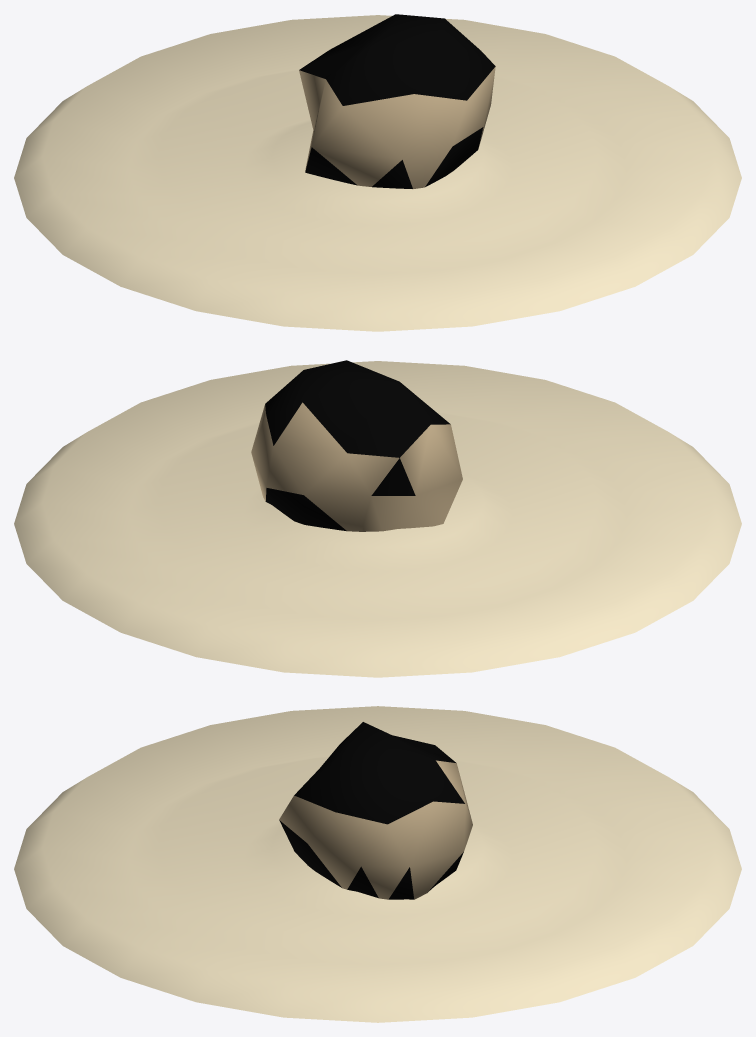
File: ZenStones.fbx
3 views of the same model, one above another, from view 1: azimuth 30°, elevation 25°; view 2: azimuth 150°, elevation 25°; view 3: azimuth 270°, elevation 25° (orthographic).
Visible parts, largest first — view 1: ZenStones; view 2: ZenStones; view 3: ZenStones.
Part boxes in pixels (x1=…): ZenStones: x1=14, y1=14, x2=741, y2=331; ZenStones: x1=14, y1=360, x2=741, y2=677; ZenStones: x1=14, y1=706, x2=741, y2=1022.
Size of the model in its own units: 1.4 by 0.3062 by 1.4.
Materials: 1 (1 with a texture image).
